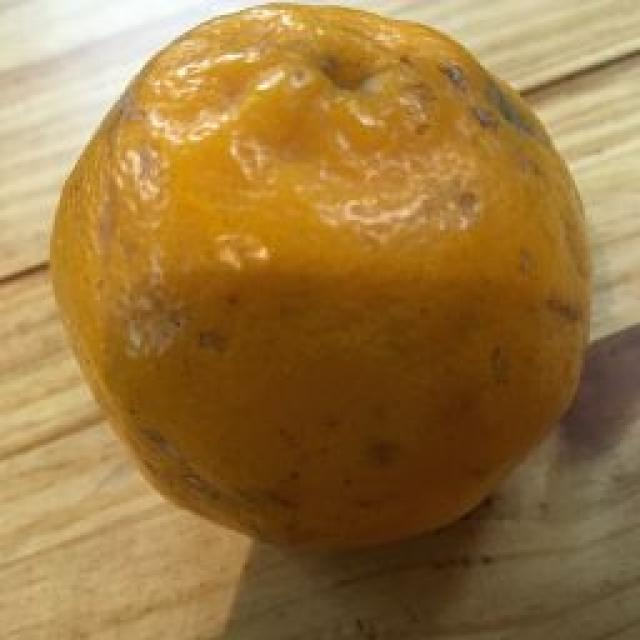Wet: (37, 0, 605, 565)
